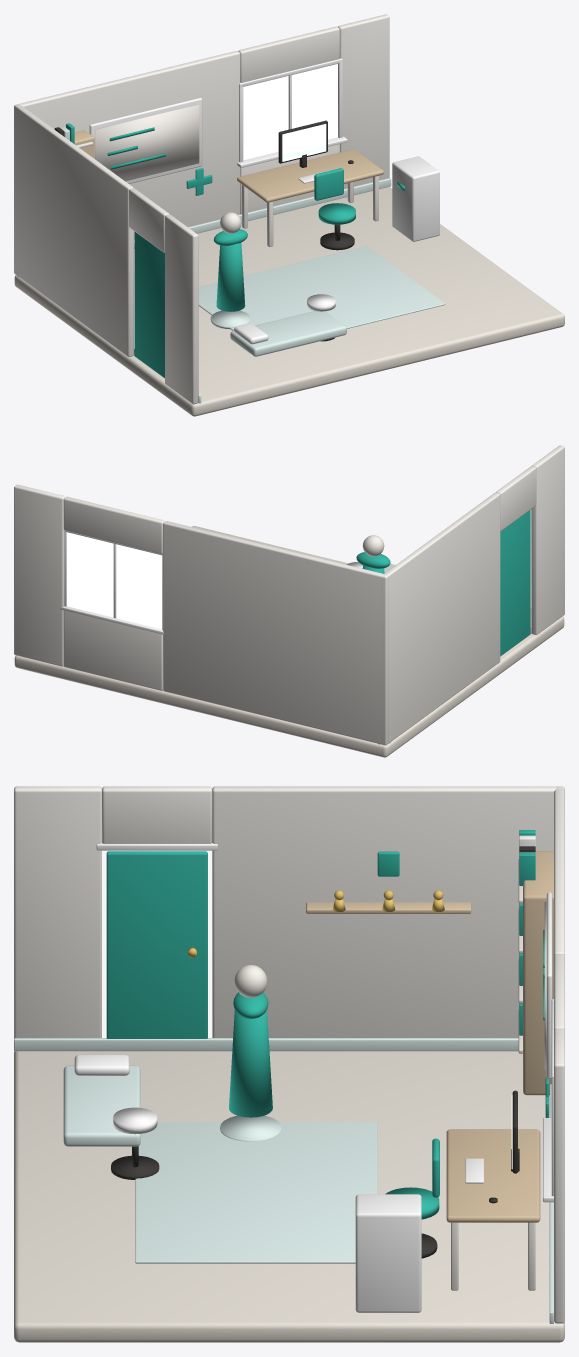
Rendered from room-doctor.glb.
3 views of the same model, one above another, from view 1: azimuth 30°, elevation 25°; view 2: azimuth 150°, elevation 25°; view 3: azimuth 270°, elevation 25° (orthographic). The views are drawn at different scales.
Visible parts, largest first — view 1: floor, wall_left_b, wall_back_l, rug, wall_back_r, window_glass, wall_left_a, wb_board, door_leaf, cab, wall_back_hi, desk_top (+11 smaller); view 2: wall_back_l, wall_left_b, wall_back_r, floor, window_glass, wall_back_lo, wall_left_a, door_leaf, wall_back_hi, wall_left_hi, wf_b, fs_shoulders; view 3: floor, wall_left_b, rug, wall_left_a, door_leaf, desk_top, cab, base_left, wall_left_hi, bs_body, bed, fs_body (+15 smaller).
Boxes of the visible parts, x1,y1,x2,y2 form: floor: (14, 187, 564, 416); wall_left_b: (14, 104, 133, 356); wall_back_l: (14, 51, 240, 273); rug: (198, 246, 445, 330); wall_back_r: (338, 14, 389, 188); window_glass: (243, 64, 337, 160); wall_left_a: (165, 214, 198, 404); wb_board: (95, 104, 199, 181); door_leaf: (134, 232, 164, 378); cab: (392, 156, 439, 241); wall_back_hi: (238, 26, 339, 82); desk_top: (237, 149, 383, 202); wall_back_l: (163, 521, 388, 745); wall_left_b: (381, 492, 500, 744); wall_back_r: (14, 484, 65, 666); floor: (14, 526, 564, 757); window_glass: (67, 532, 162, 629); wall_back_lo: (63, 610, 162, 690); wall_left_a: (531, 445, 564, 634); door_leaf: (500, 510, 530, 656); wall_back_hi: (63, 496, 165, 554); wall_left_hi: (496, 466, 536, 531); wf_b: (60, 606, 163, 634); fs_shoulders: (356, 552, 390, 568); floor: (14, 1051, 564, 1342); wall_left_b: (212, 786, 563, 1037); rug: (135, 1122, 377, 1263); wall_left_a: (14, 786, 101, 1038); door_leaf: (106, 851, 207, 1038); desk_top: (446, 1129, 540, 1222); cab: (355, 1194, 421, 1312); base_left: (14, 1038, 518, 1051); wall_left_hi: (102, 786, 212, 843); bs_body: (523, 851, 553, 1095); bed: (63, 1065, 140, 1146); fs_body: (229, 997, 272, 1117).
Bounding box in the file's own units: 6 × 2.8 × 5.
